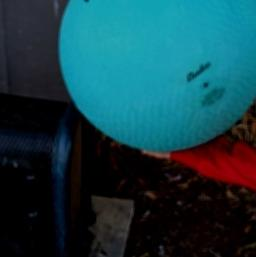algae: (62, 0, 256, 153)
